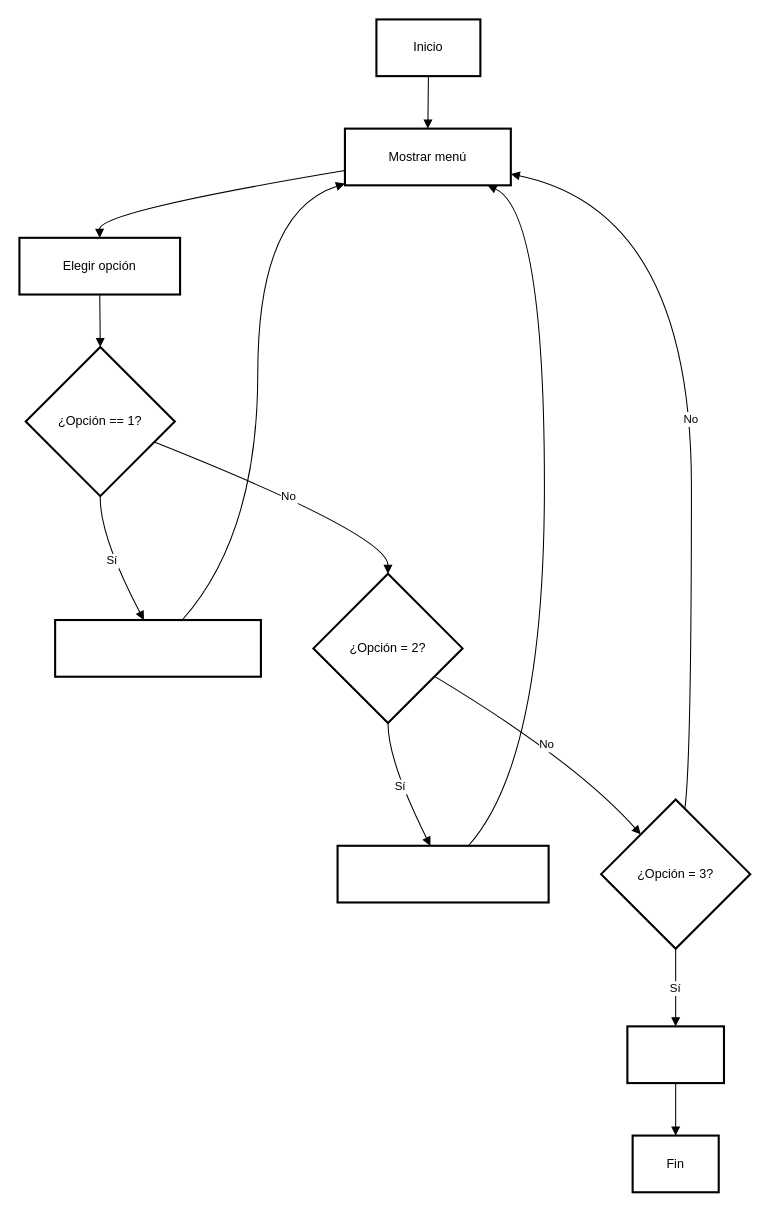
Some shapes in this 769 by 1211 pixel diagram are drawn without their labels. Each missing label, with the centre of its shape:
Agregar estudiante: the point at 157,647
Mostrar estudiantes: the point at 442,873
Salir: the point at 675,1054
